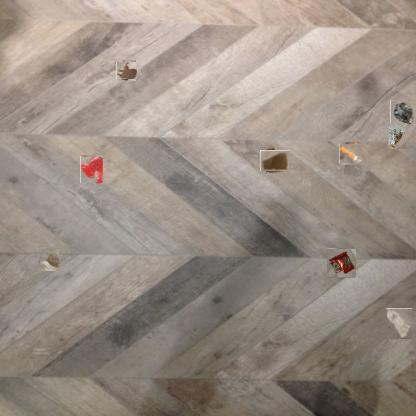dirty: (327, 248, 355, 278), (386, 308, 412, 339), (390, 100, 415, 125), (262, 148, 287, 173), (388, 123, 408, 149), (40, 247, 60, 272), (340, 143, 362, 164)
liquid: (80, 156, 103, 184), (117, 61, 137, 80)
